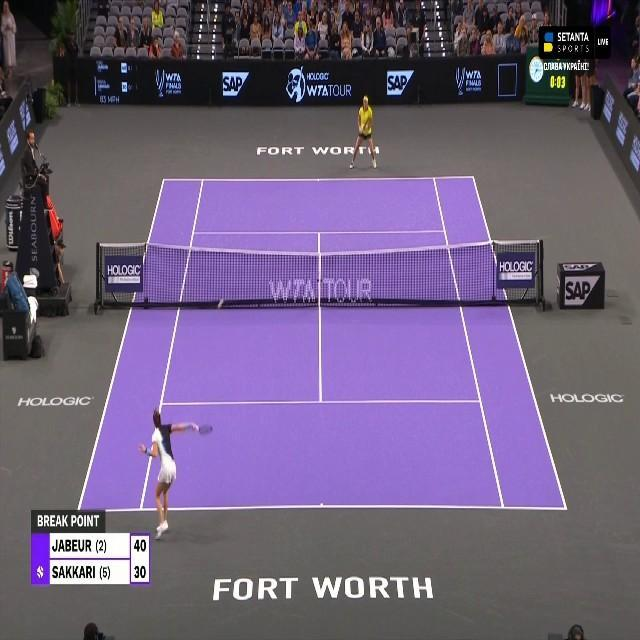left side: (434, 178, 566, 509), (78, 180, 203, 511)
player: (140, 407, 200, 540), (348, 94, 378, 170)
